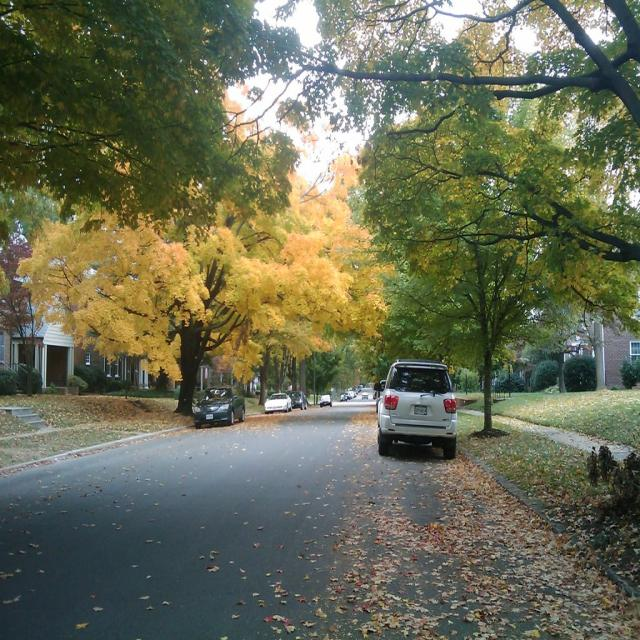car: (377, 358, 460, 454), (192, 385, 247, 423), (264, 393, 293, 412), (320, 392, 332, 406)
